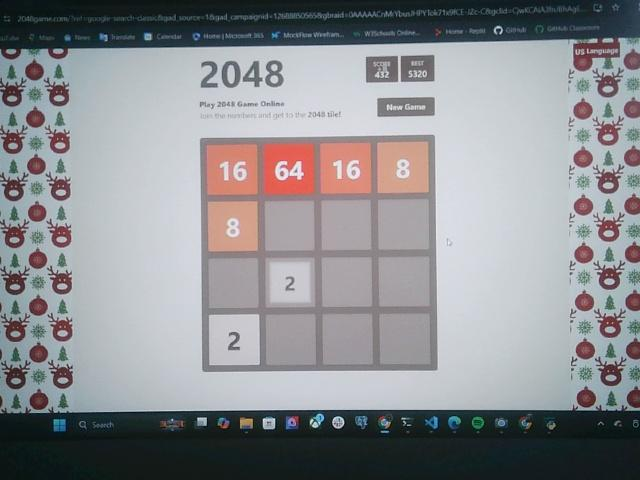board: (201, 137, 436, 372)
tile: (318, 143, 371, 196), (377, 142, 429, 193), (208, 314, 259, 366), (207, 145, 258, 195), (266, 258, 316, 308), (208, 202, 258, 251), (265, 145, 313, 196)
